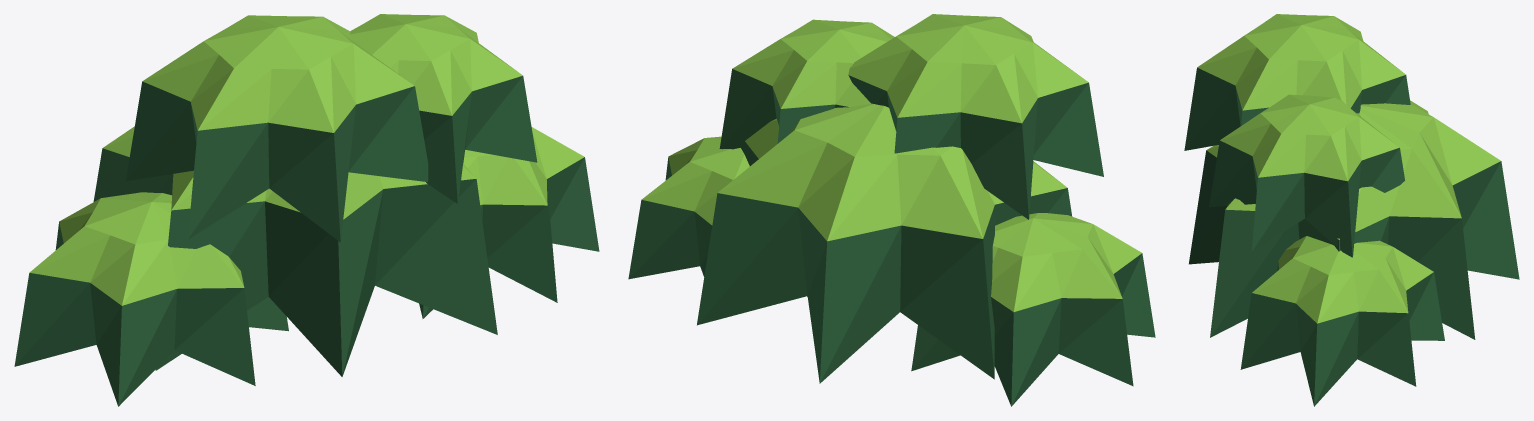
The model's file is tree_crown_a.glb.
3 views of the same model, side by side, from view 1: azimuth 30°, elevation 25°; view 2: azimuth 150°, elevation 25°; view 3: azimuth 270°, elevation 25° (orthographic). The views are drawn at different scales.
Visible parts, largest first — view 1: leaf_shade, leaf_lit; view 2: leaf_shade, leaf_lit; view 3: leaf_shade, leaf_lit.
Boxes of the visible parts, <box> form: leaf_shade: <box>14,76,599,406</box>; leaf_lit: <box>29,14,584,305</box>; leaf_shade: <box>628,69,1155,406</box>; leaf_lit: <box>641,14,1141,311</box>; leaf_shade: <box>1184,67,1519,406</box>; leaf_lit: <box>1197,14,1500,323</box>.
Size of the model in its own units: 6.28 by 3.48 by 4.06.
